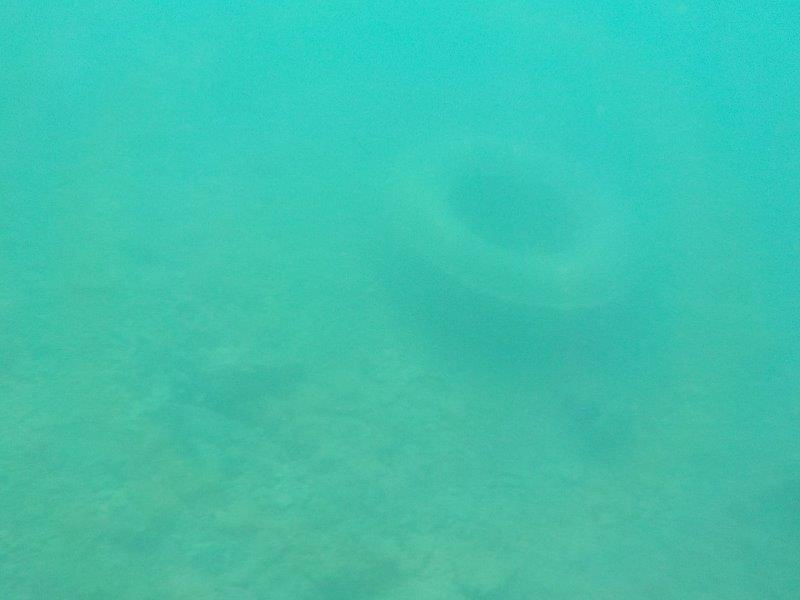tire: (374, 132, 676, 358)
